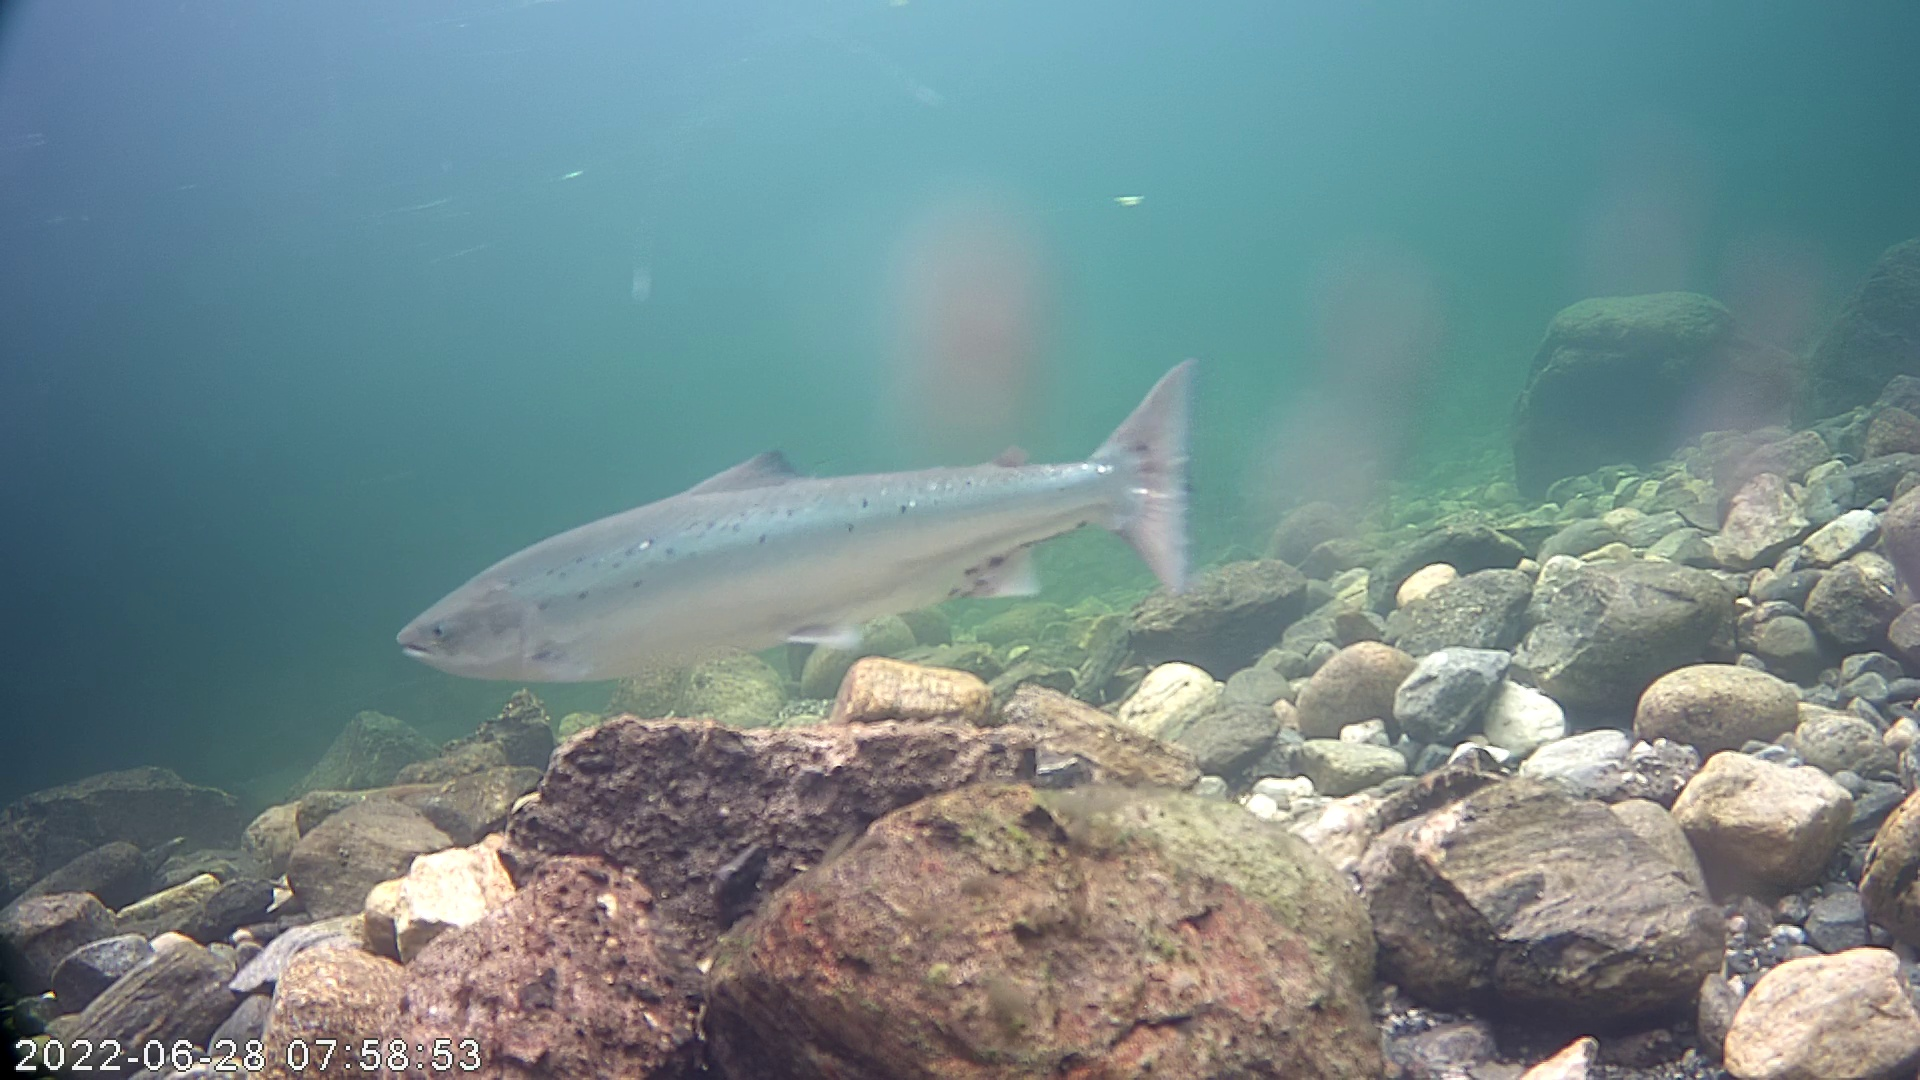salmon: (375, 307, 1241, 713)
